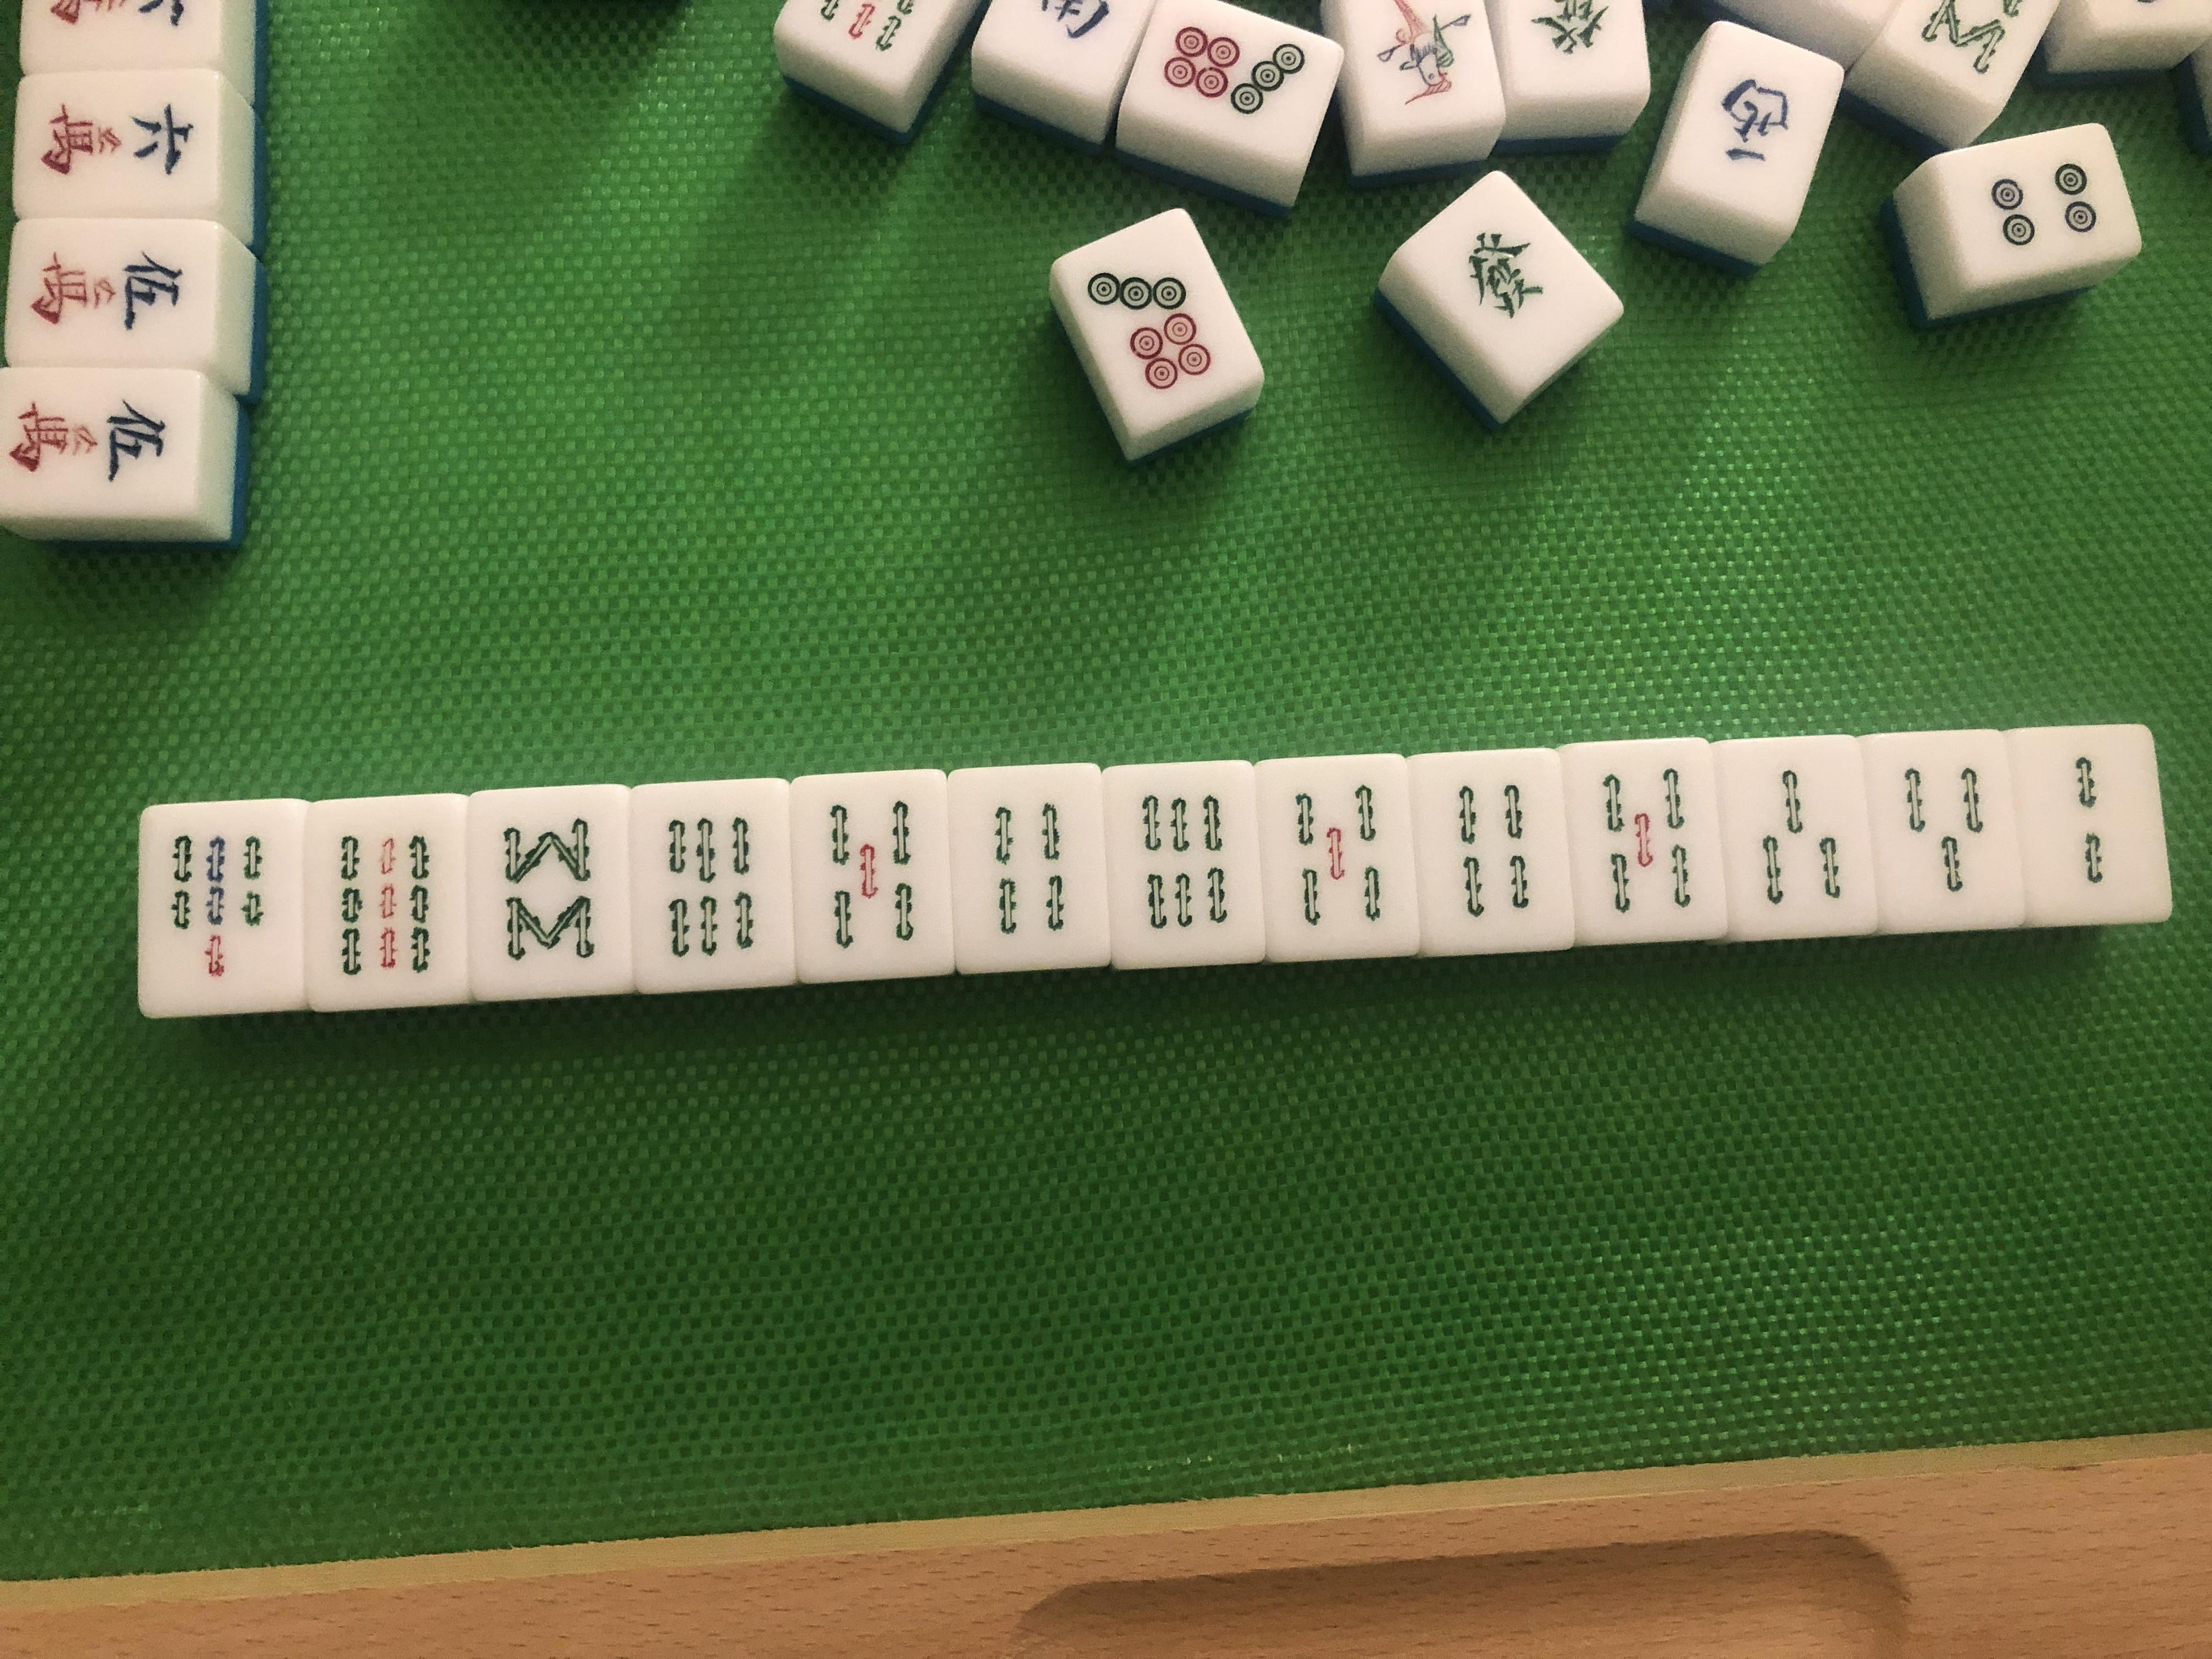bamboo-eight: (486, 807, 606, 976)
bamboo-five: (1588, 751, 1707, 922), (812, 793, 927, 955), (1280, 775, 1392, 938)
bamboo-four: (1435, 772, 1541, 932), (977, 791, 1085, 945)
bamboo-nine: (315, 821, 449, 988)
bamboo-seven: (152, 823, 280, 995)
bamboo-six: (653, 802, 765, 972), (1125, 782, 1240, 948)
bamboo-three: (1737, 753, 1848, 918), (1890, 755, 1998, 906)
bamboo-two: (2041, 742, 2141, 899)
